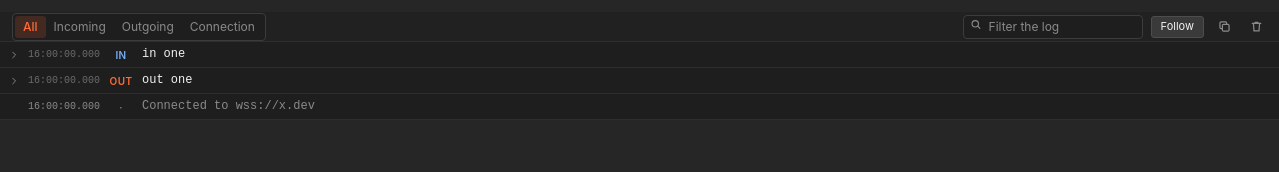
filtering › narrows to one direction
The width and height of the screenshot is (1279, 172).
Click the button "Outgoing" at coordinates (148, 26), box [114, 16, 182, 38]
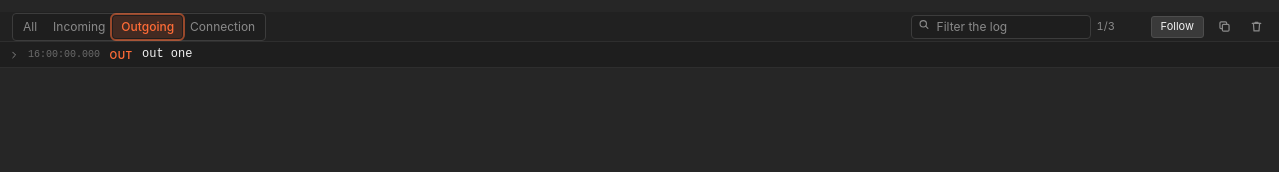
Expected: the text "out one" is shown, [142, 47, 192, 61]
Expected: the button "in one" is gone
